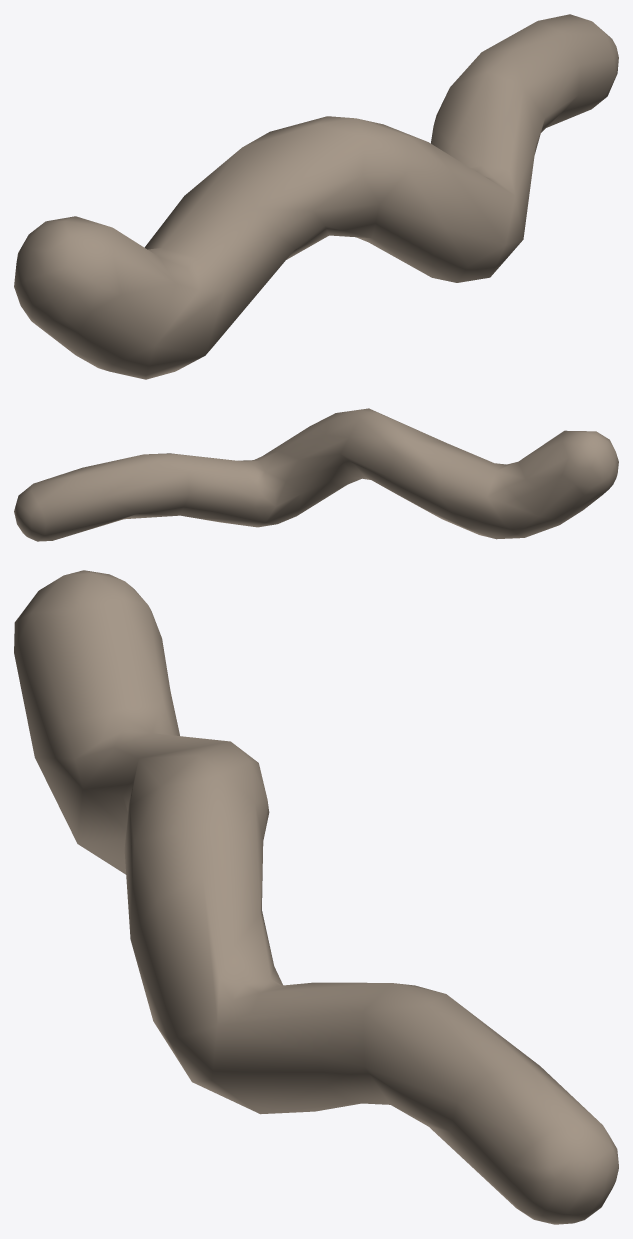
File: Vermiform_appendix.glb
The picture shows the model from 3 angles, top to bottom: view 1: azimuth 30°, elevation 25°; view 2: azimuth 150°, elevation 25°; view 3: azimuth 270°, elevation 25°; orthographic projection. The views are drawn at different scales.
Parts seen in each view (by area): view 1: Vermiform_appendix_grp1.1639; view 2: Vermiform_appendix_grp1.1639; view 3: Vermiform_appendix_grp1.1639.
Part boxes in pixels (<box>): Vermiform_appendix_grp1.1639: <box>14,14,618,379</box>; Vermiform_appendix_grp1.1639: <box>14,408,618,541</box>; Vermiform_appendix_grp1.1639: <box>14,570,618,1224</box>.
Size of the model in its own units: 0.0696 by 0.0181 by 0.039.
